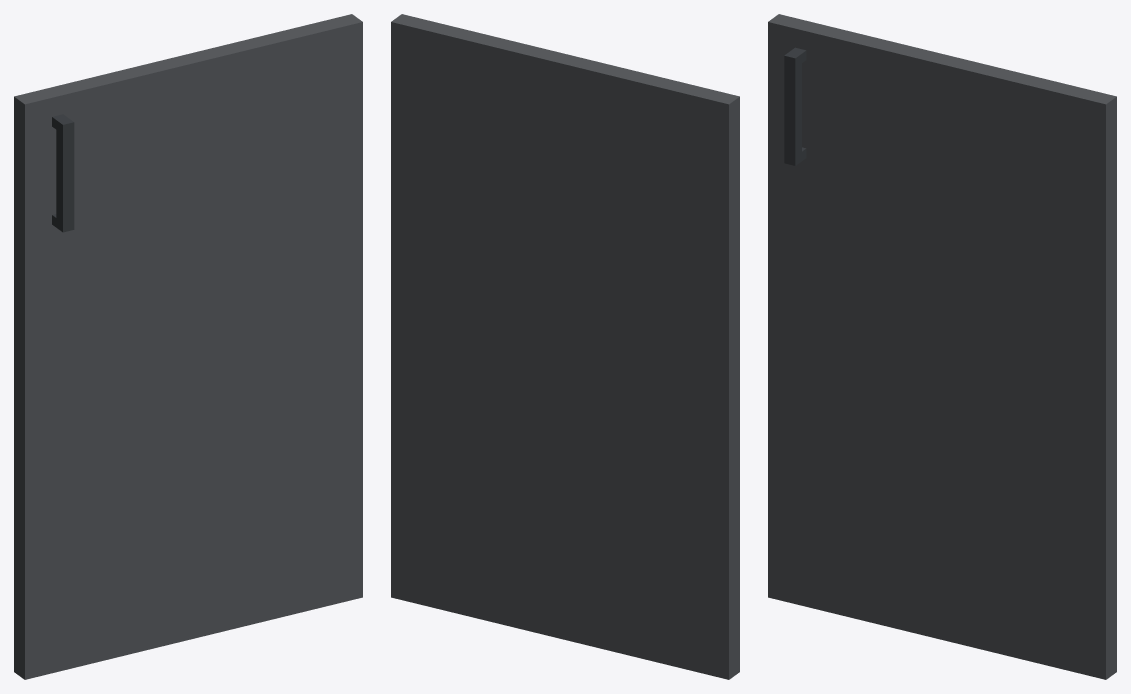
The model's file is BathroomDoor_C3_06.fbx.
3 views of the same model, side by side, from view 1: azimuth 30°, elevation 25°; view 2: azimuth 150°, elevation 25°; view 3: azimuth 330°, elevation 25° (orthographic).
Parts seen in each view (by area): view 1: BathroomDoor_C3_06; view 2: BathroomDoor_C3_06; view 3: BathroomDoor_C3_06.
Part boxes in pixels (x1,y1,x2,y2): BathroomDoor_C3_06: (14,14,362,679); BathroomDoor_C3_06: (391,14,739,679); BathroomDoor_C3_06: (768,14,1116,679).
Size of the model in its own units: 45 by 73.19 by 5.03.
